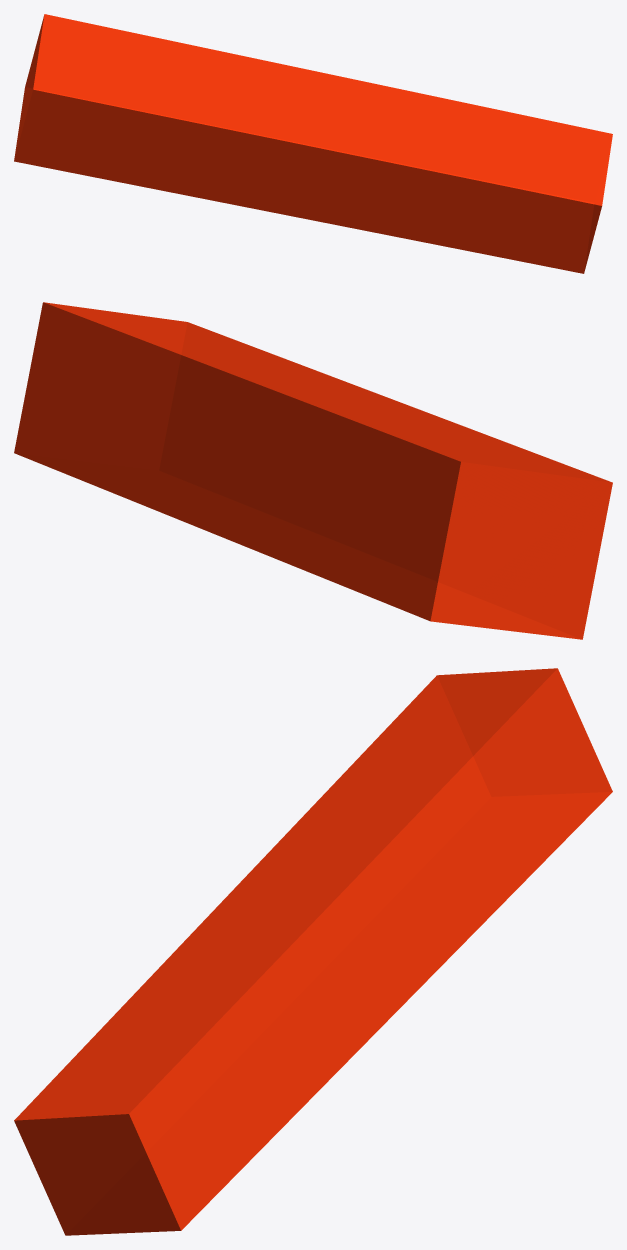
Rendered from Event_420604493_EBrechit_10.fbx.
3 renders of one model, top to bottom at view 1: azimuth 30°, elevation 25°; view 2: azimuth 150°, elevation 25°; view 3: azimuth 270°, elevation 25°, orthographic. The views are drawn at different scales.
Parts seen in each view (by area): view 1: Model; view 2: Model; view 3: Model.
Part boxes in pixels (x1,y1,x2,y2): Model: [14, 14, 612, 273]; Model: [14, 302, 612, 639]; Model: [14, 668, 612, 1235].
Size of the model in its own units: 0.3113 by 0.1402 by 0.2419.
